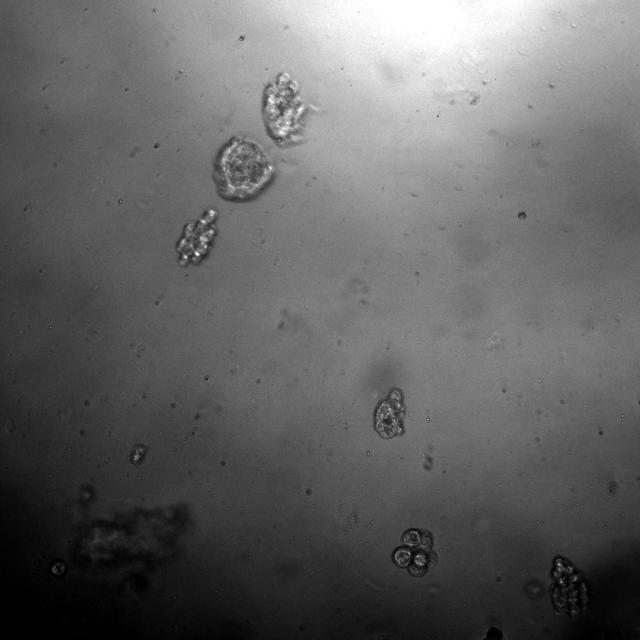organoid: (72, 484, 191, 589), (213, 136, 274, 200), (262, 72, 306, 145), (549, 555, 589, 617), (391, 527, 438, 577), (176, 209, 216, 266), (374, 387, 406, 439), (129, 443, 149, 467), (48, 559, 67, 578)
